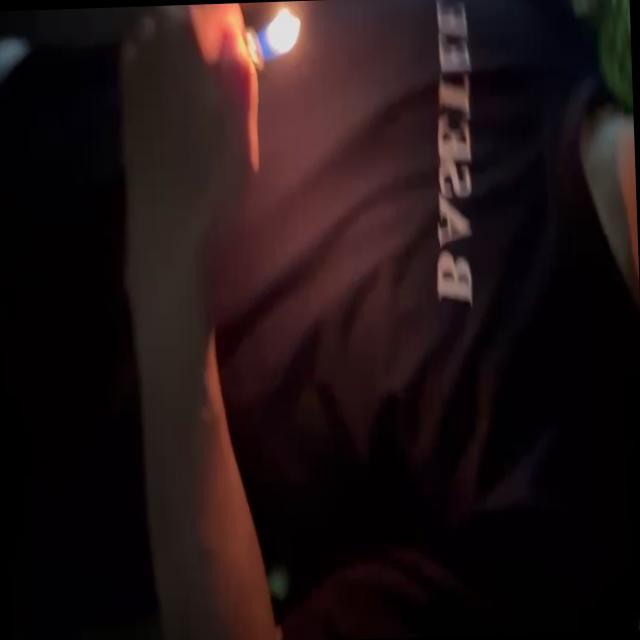Fire: (255, 7, 306, 65)
